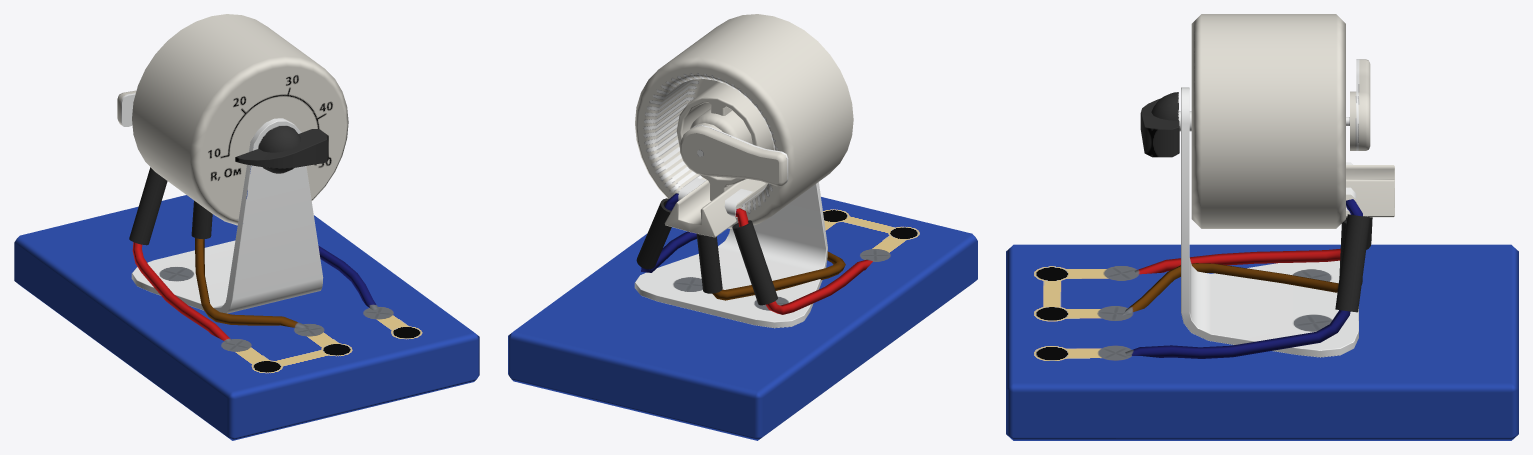
File: ResistanceBox (1).fbx
3 renders of one model, left to right at view 1: azimuth 30°, elevation 25°; view 2: azimuth 150°, elevation 25°; view 3: azimuth 270°, elevation 25°, orthographic. The views are drawn at different scales.
Visible parts, largest first — view 1: ResistanceBox, Knob; view 2: ResistanceBox, Knob; view 3: ResistanceBox, Knob.
Part boxes in pixels (<box>): ResistanceBox: <box>14,14,479,440</box>; Knob: <box>117,90,328,173</box>; ResistanceBox: <box>508,14,977,440</box>; Knob: <box>680,123,788,186</box>; ResistanceBox: <box>1006,14,1518,440</box>; Knob: <box>1140,59,1370,157</box>.
Bounding box in the file's own units: 4 × 4.46 × 6.
